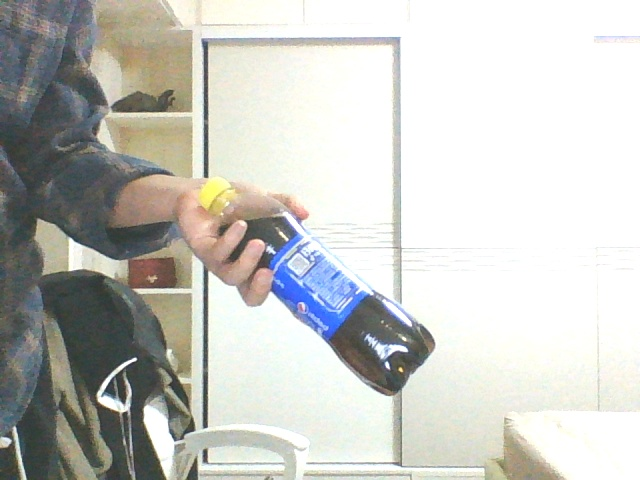Cola: (199, 177, 435, 396)
